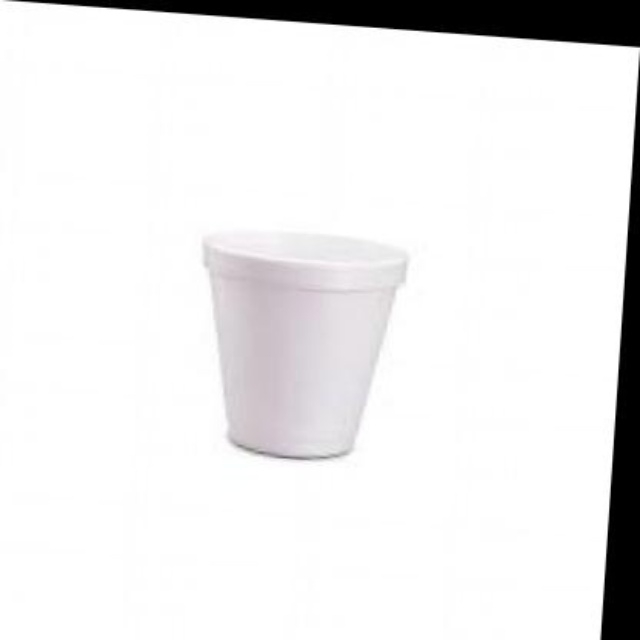trash: (203, 232, 406, 457)
